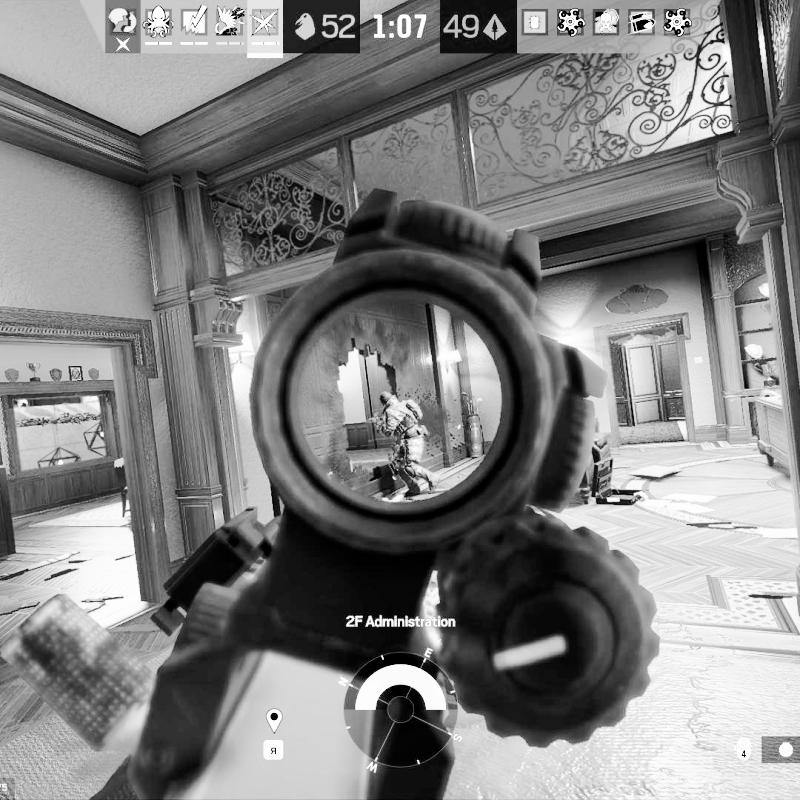Character: (366, 388, 447, 500)
Head: (378, 389, 392, 409)
